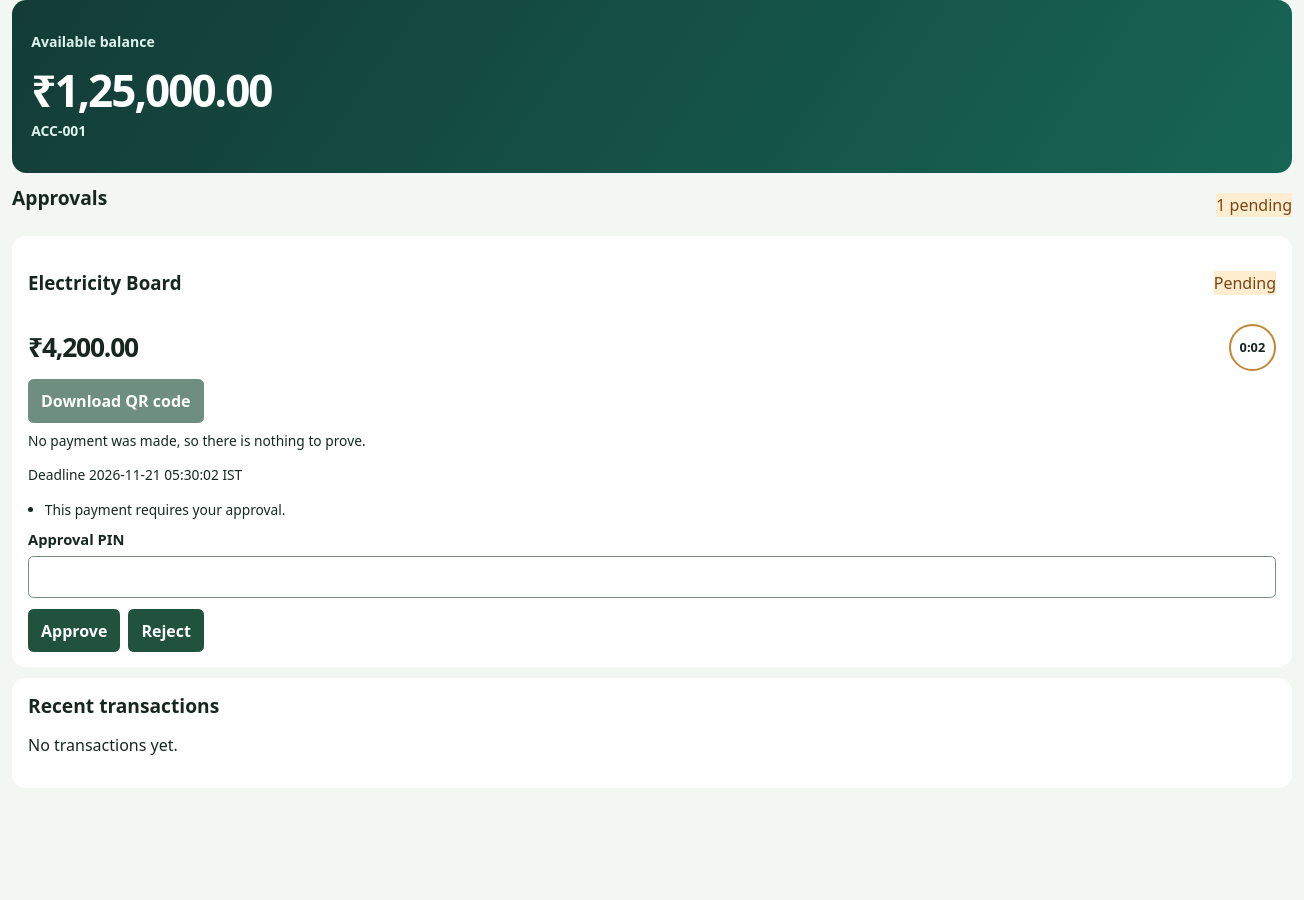
Test: demo bank › clears the approval PIN on submit and removes controls when the actual deadline passes
This screenshot has width=1304, height=900.
Later steps or results of the test are not shown.
Type "4752" into the password field labelled "Approval PIN" at (652, 577), box [28,556,1276,598]
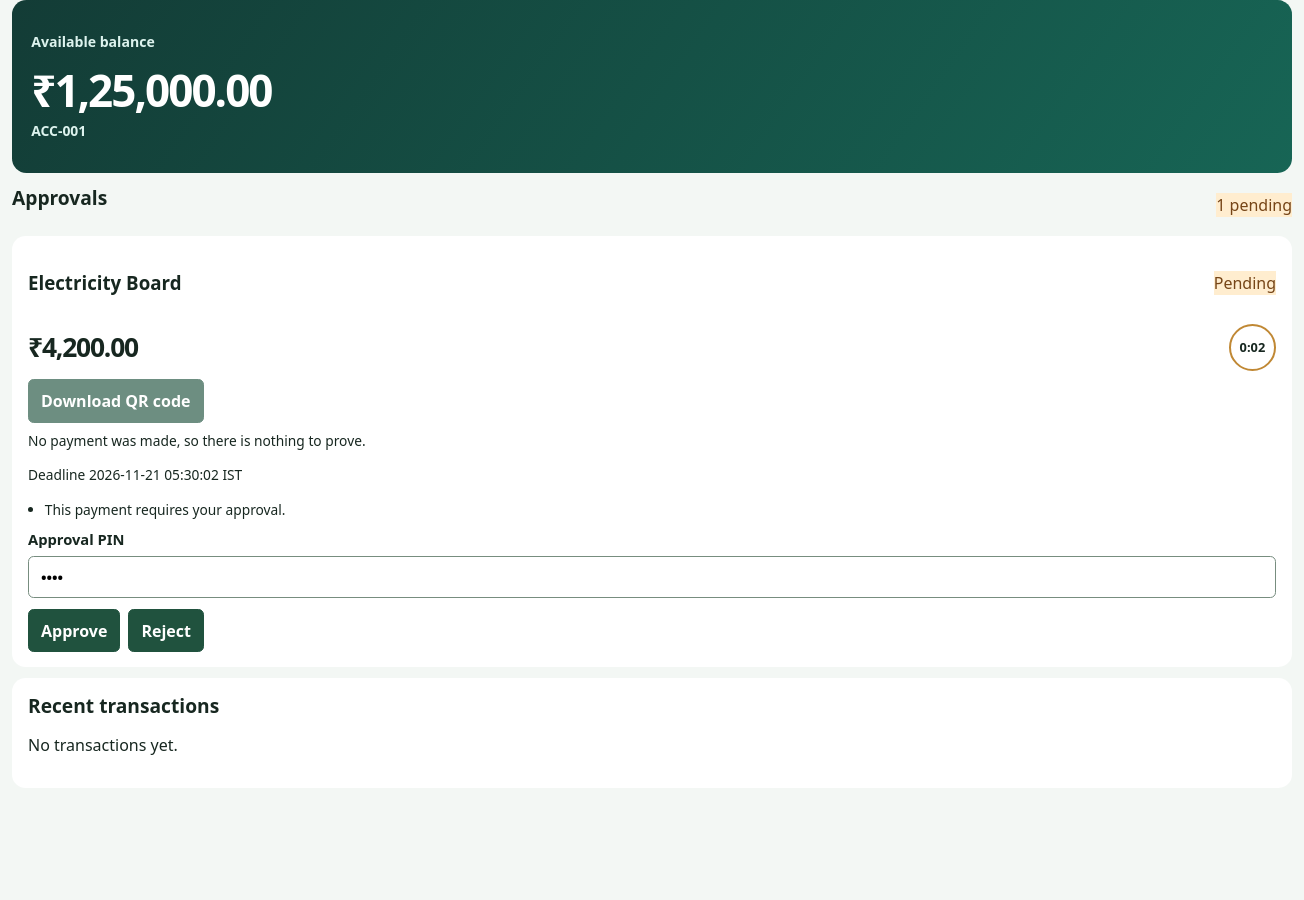
Click the button "Approve" at (74, 631), box [28,609,120,652]
Wait 2000 ms
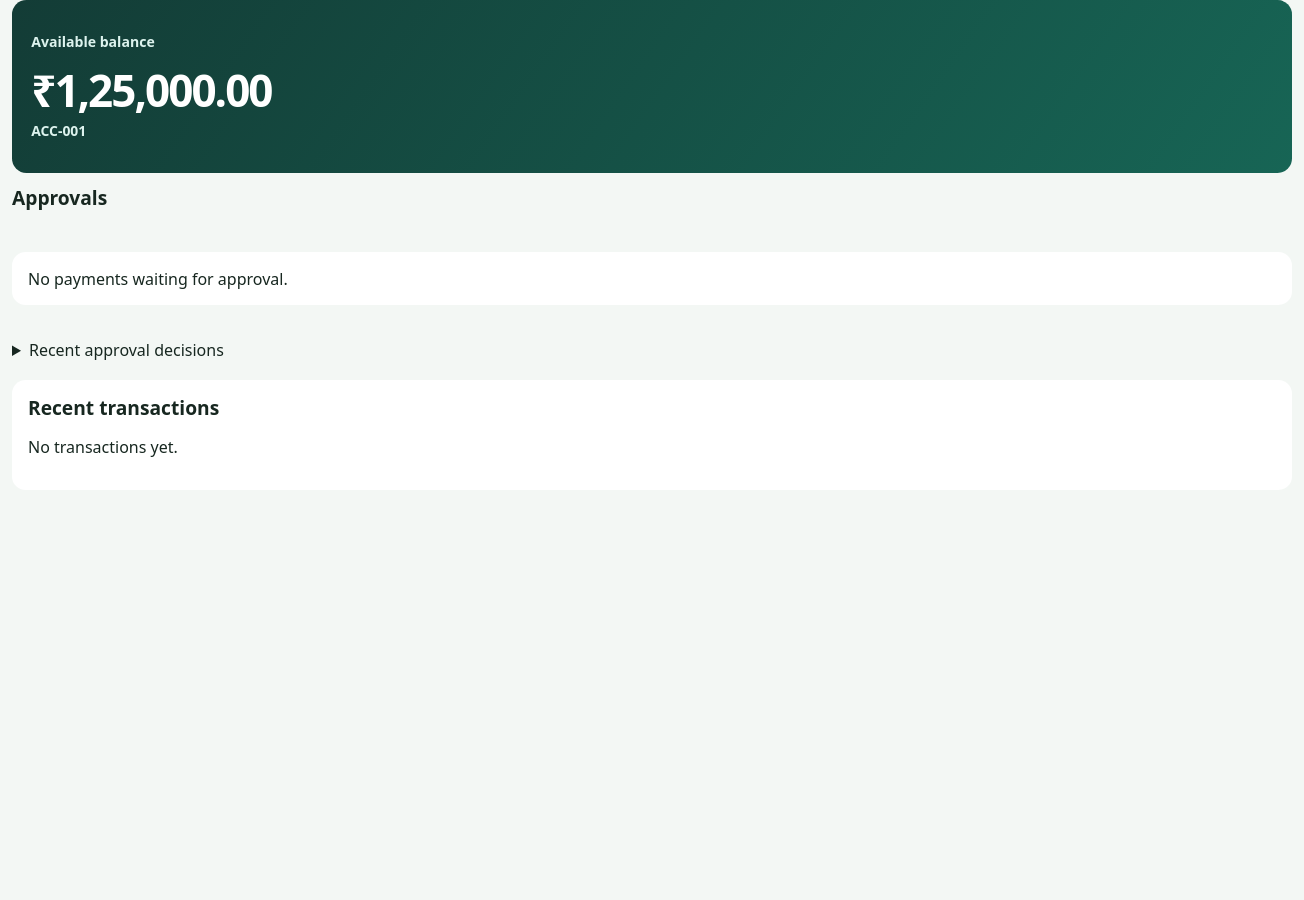
Expected: the button "Approve" is gone
